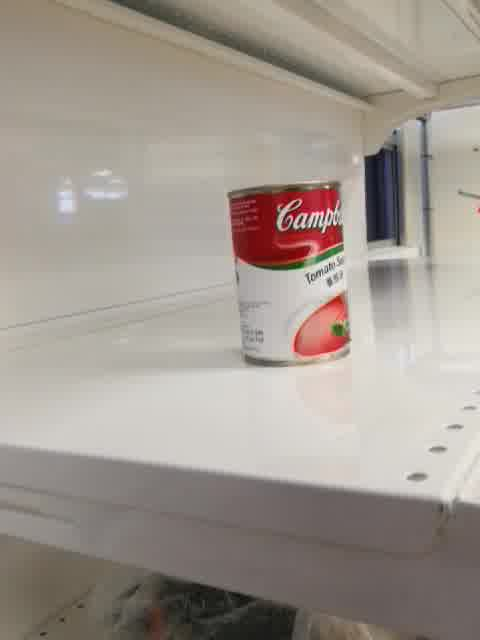tomatosoup: (225, 178, 351, 369)
